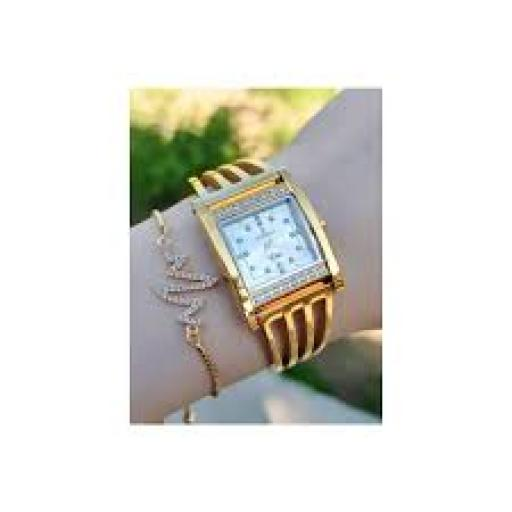KolSaati: (180, 151, 358, 374)
